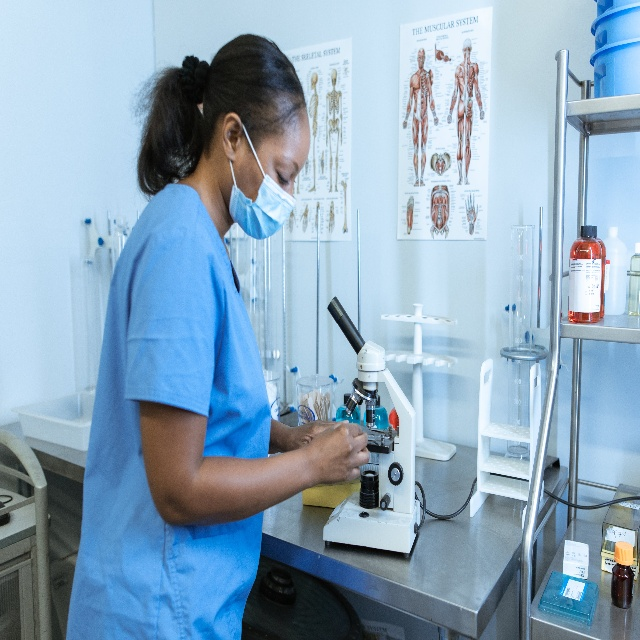Mascara: (226, 121, 297, 241)
Sin_guantes: (305, 418, 370, 483), (292, 418, 336, 450)
